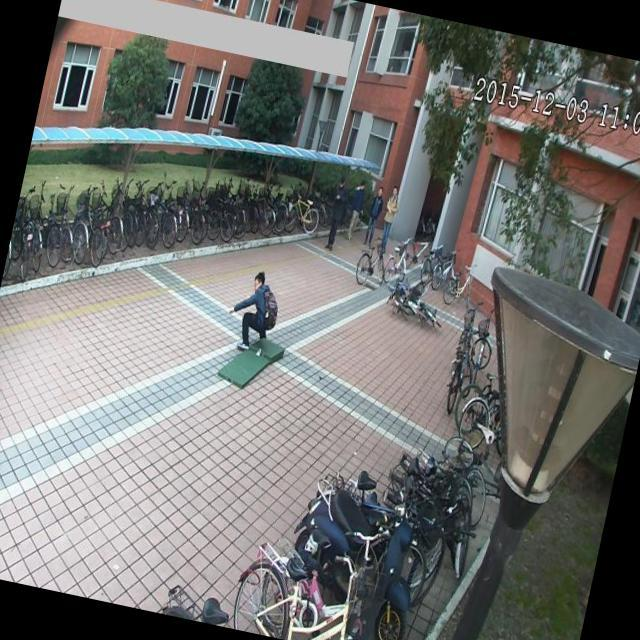person: (220, 266, 279, 354), (322, 172, 354, 250), (374, 182, 404, 260), (344, 175, 374, 248), (360, 182, 390, 254)
